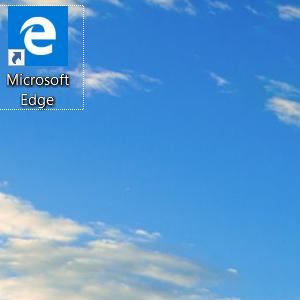edge: (7, 6, 68, 67)
